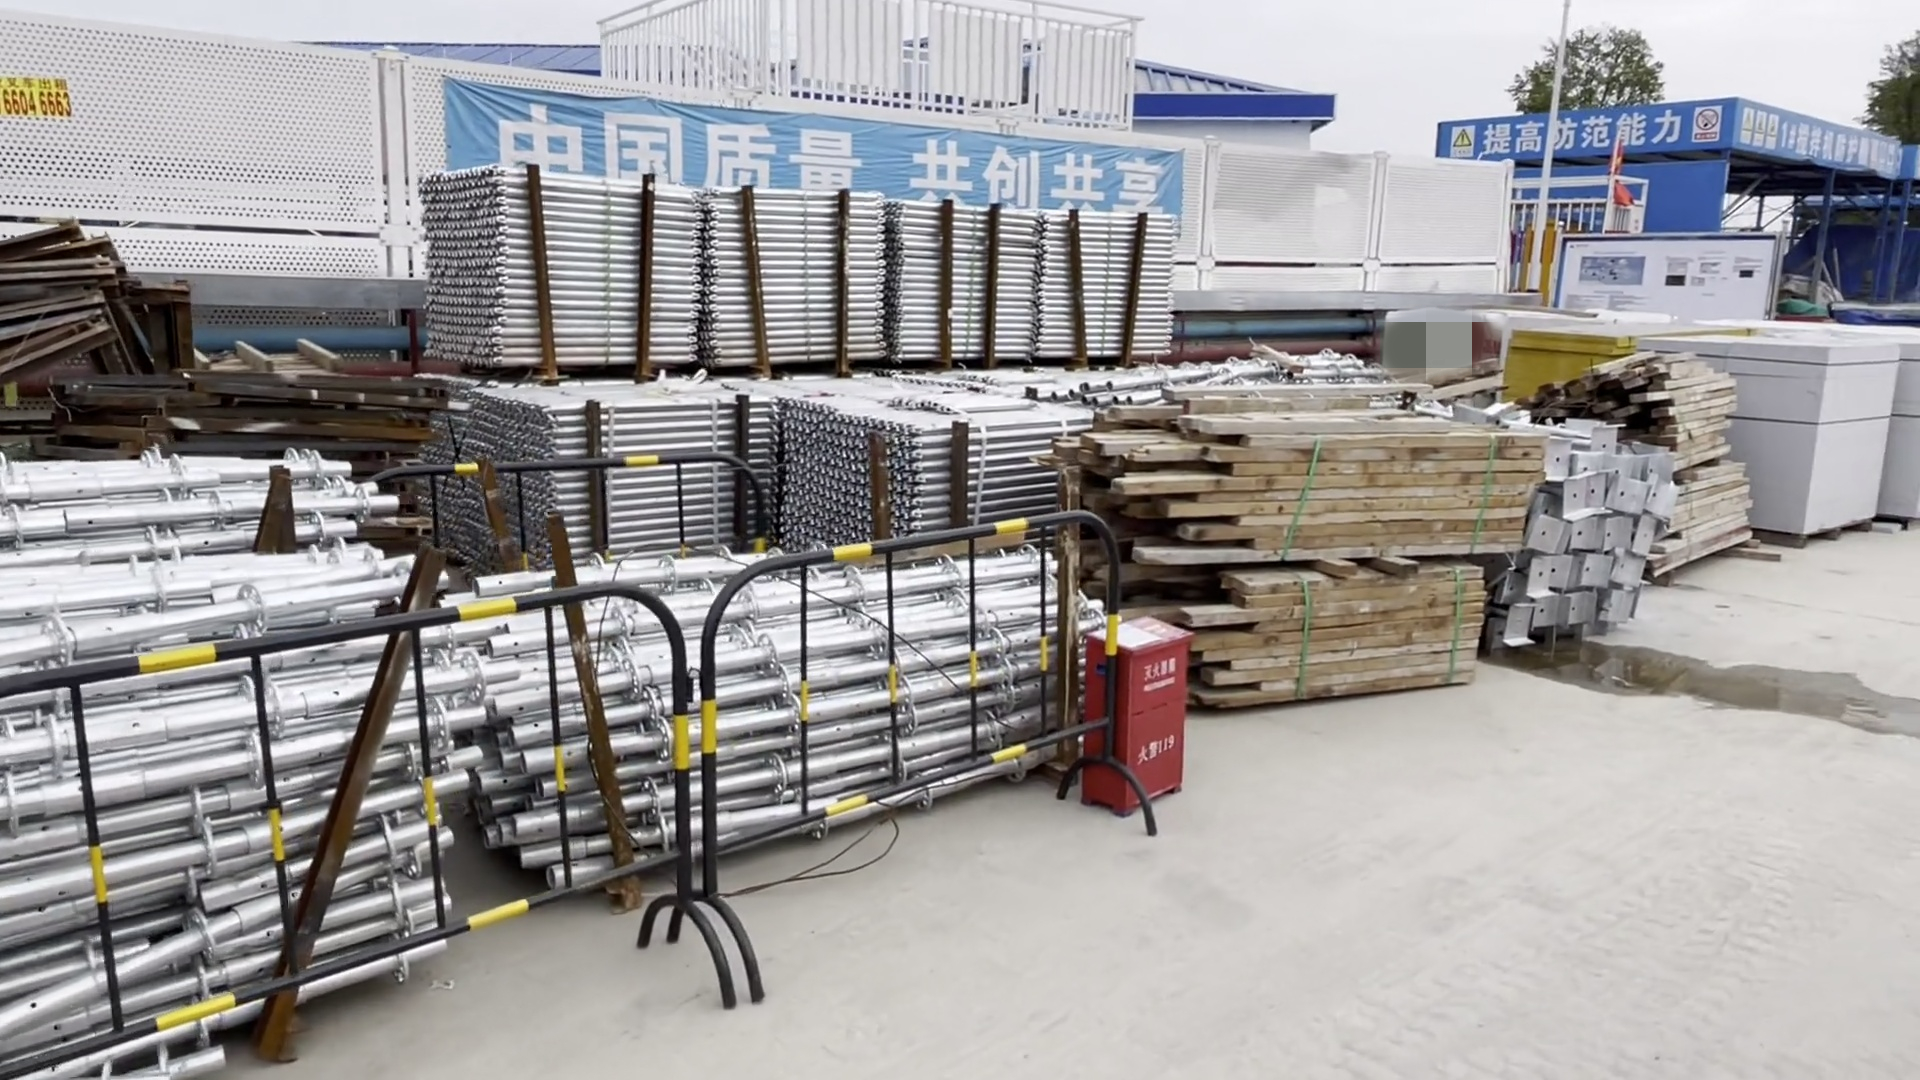scaffold: (12, 459, 1113, 1080), (411, 179, 1199, 570)
slogan: (440, 102, 1212, 244), (1462, 103, 1904, 171)
